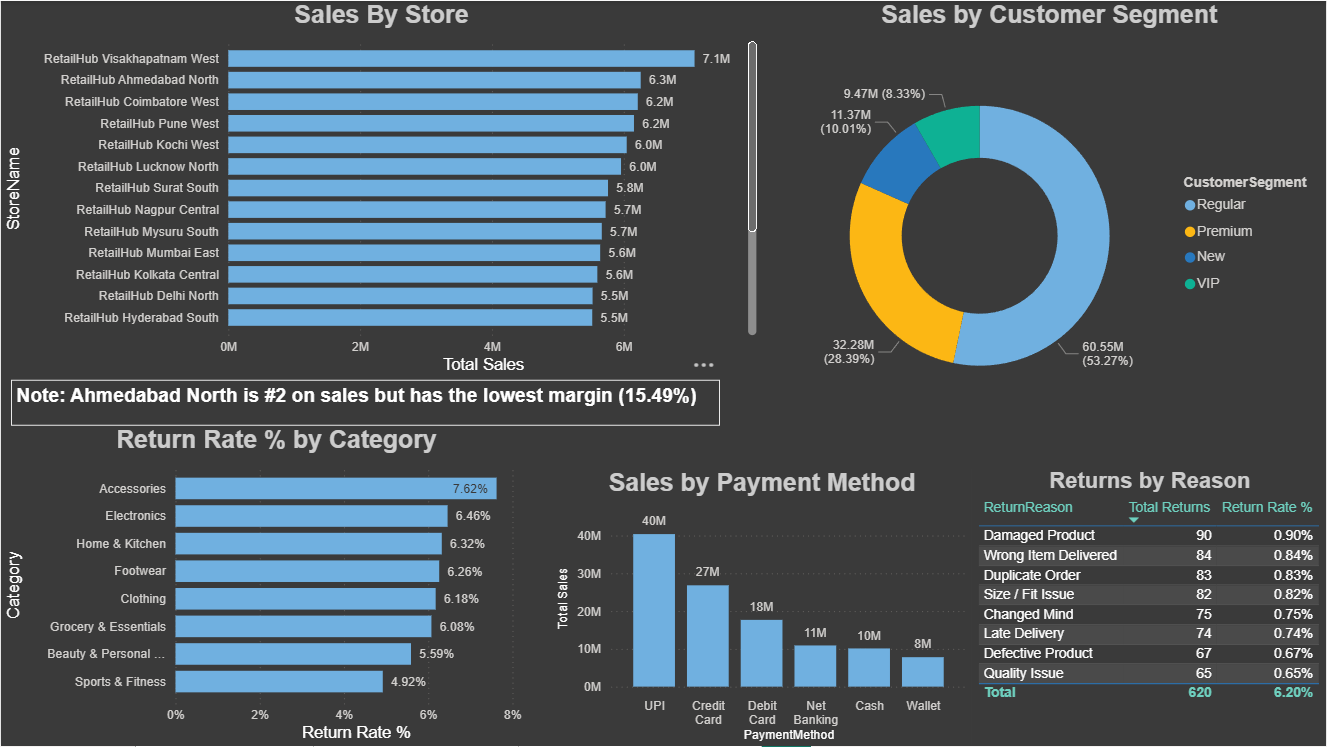

Layout of this report page (visuals, bound fields, positions):
{"tool":"powerbi","page":{"name":"Stores, Customers & Returns","canvas":[1280,720],"ordinal":2},"visuals":[{"type":"clusteredBarChart","title":"Sales By Store ","fields":{"Category":["stores.StoreName"],"Y":["customers.Total Sales"]},"box":[0,0,734.3,364.3],"z":0},{"type":"textbox","box":[10,365,683.3,45],"z":1000},{"type":"donutChart","title":"Sales by Customer Segment","fields":{"Category":["customers.CustomerSegment"],"Y":["customers.Total Sales"]},"box":[742.9,0,537.1,427.1],"z":2000},{"type":"clusteredBarChart","fields":{"Category":["products.Category"],"Y":["customers.Return Rate %"]},"box":[0,410,531.7,310],"z":3000},{"type":"tableEx","title":"Returns by Reason","fields":{"Values":["returns.ReturnReason","customers.Total Returns","customers.Return Rate %"]},"box":[937.1,451.4,342.9,268.6],"z":4000},{"type":"clusteredColumnChart","title":"Sales by Payment Method","fields":{"Category":["orders.PaymentMethod"],"Y":["customers.Total Sales"]},"box":[531.7,451.7,405,268.3],"z":5000}]}

Visuals, with their boxes in screenshot pixels (x1, y1, x2, y2), scaled from the page's 1280x720 canvas onto the 1327x747 screenshot:
"Sales By Store " clusteredBarChart: Rect(0, 0, 761, 378)
textbox: Rect(10, 379, 719, 425)
"Sales by Customer Segment" donutChart: Rect(770, 0, 1326, 443)
clusteredBarChart - products.Category x customers.Return Rate %: Rect(0, 425, 551, 746)
"Returns by Reason" tableEx: Rect(972, 468, 1326, 746)
"Sales by Payment Method" clusteredColumnChart: Rect(551, 469, 971, 746)
